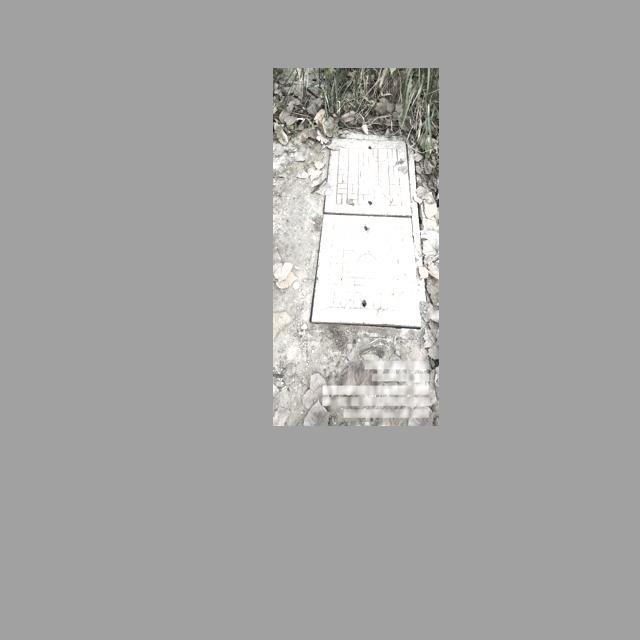good: (309, 133, 424, 326)
